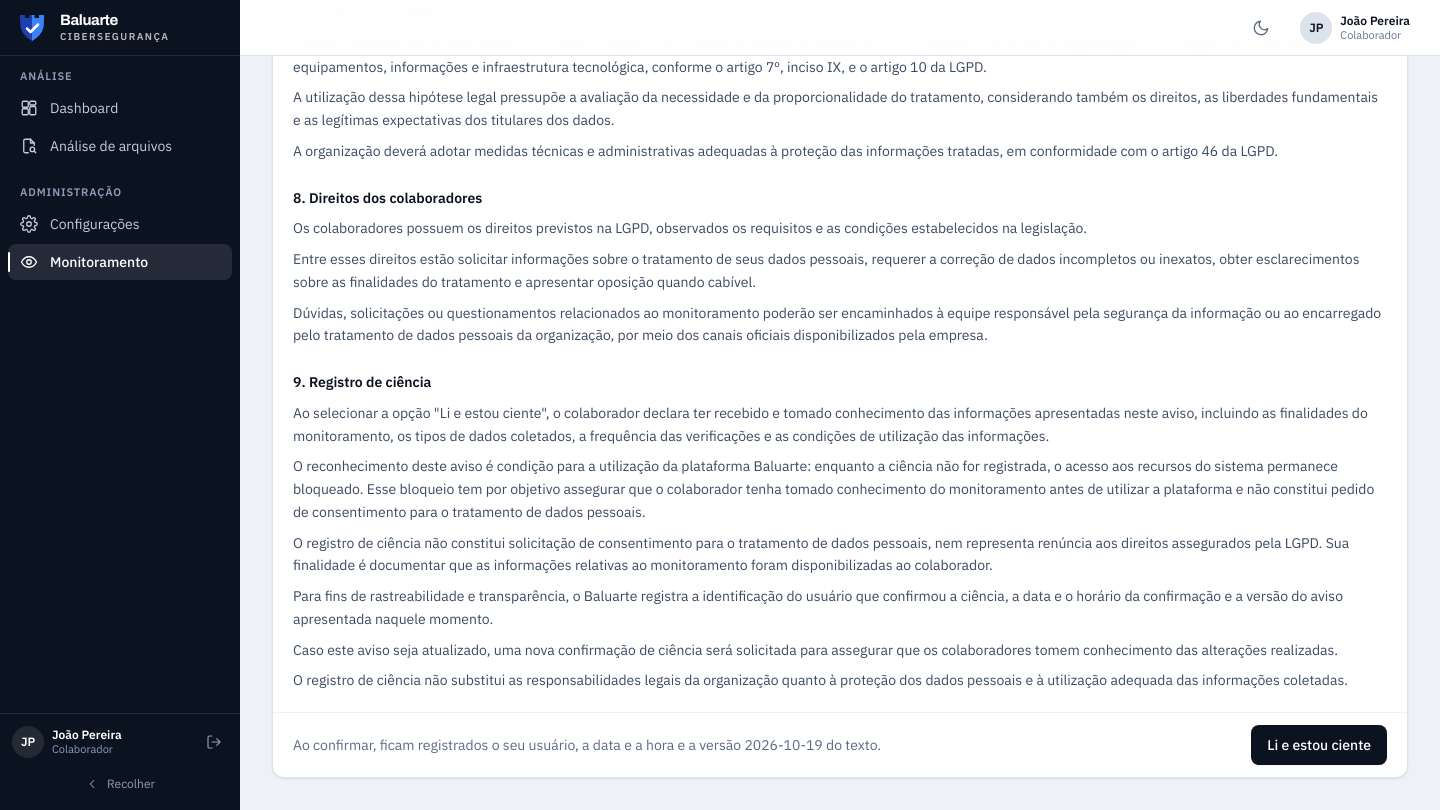
Test: página "Monitoramento da estação" › "Li e estou ciente" registra a versão lida, avisa e troca o botão pela data
(page scrolled)
Click the button "Li e estou ciente". click: (1319, 745)
box: [1251, 725, 1387, 765]
(page scrolled)
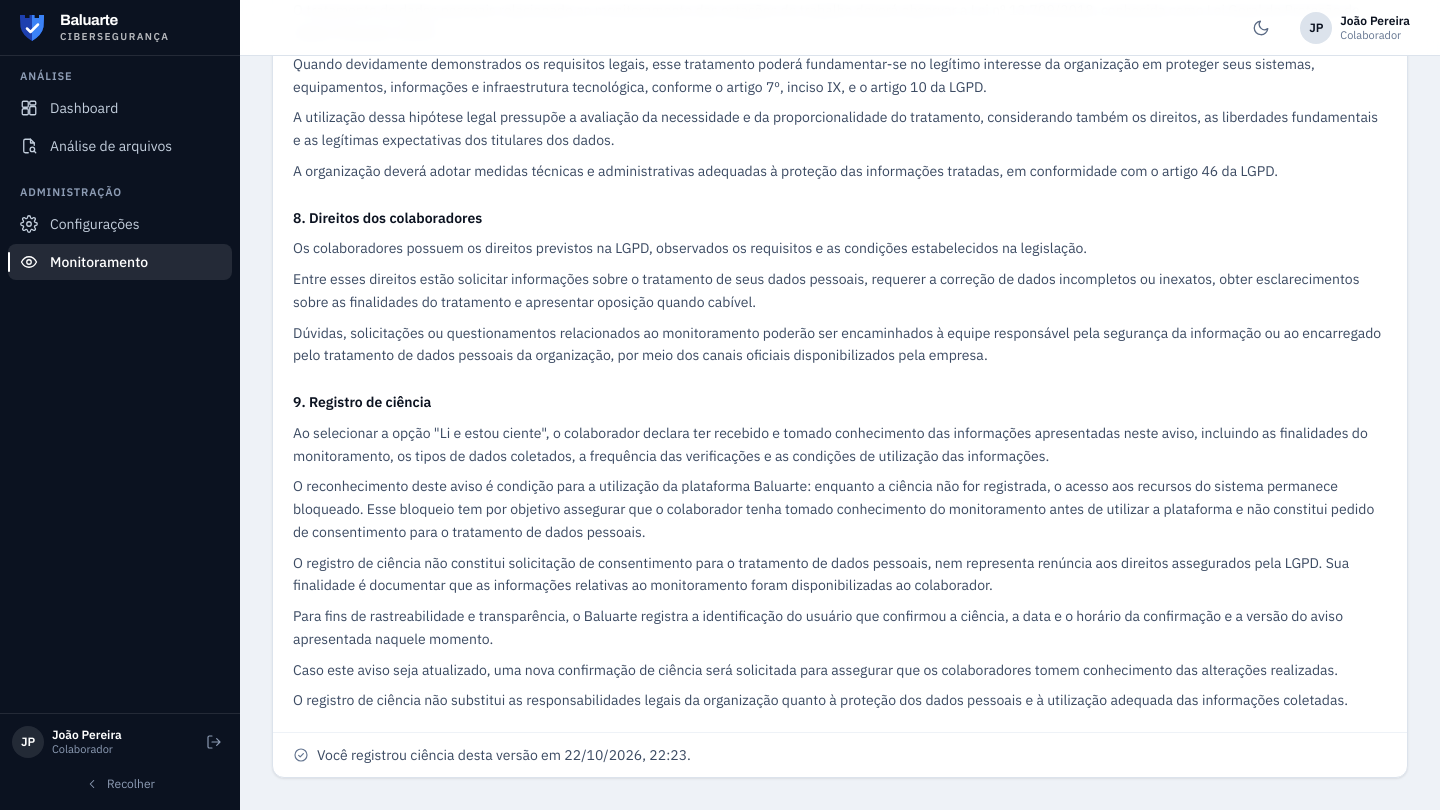
Expected: the element with test id "monitoring-ack-done" shows "Você registrou ciência desta versão em", [317, 746, 561, 764]
